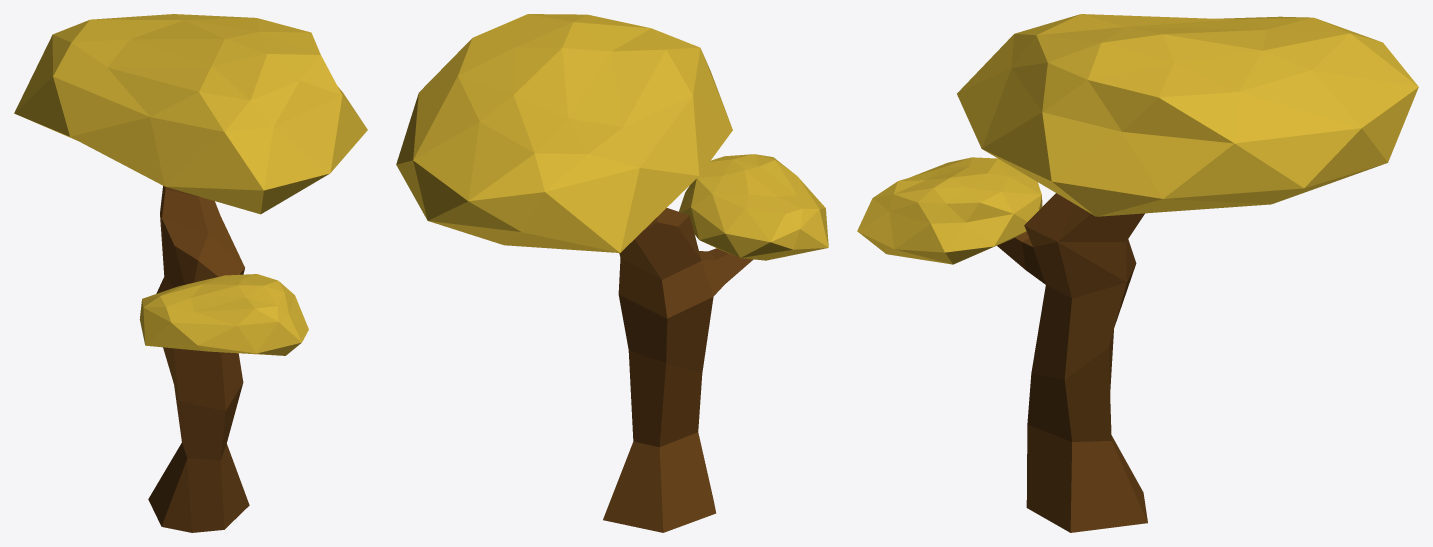
The model's file is co_Tree07_B.fbx.
3 renders of one model, left to right at view 1: azimuth 30°, elevation 25°; view 2: azimuth 150°, elevation 25°; view 3: azimuth 270°, elevation 25°, orthographic. The views are drawn at different scales.
Visible parts, largest first — view 1: Tree07_B_LOD0; view 2: Tree07_B_LOD0; view 3: Tree07_B_LOD0.
Part boxes in pixels (box(x1,y1,x2,y2)): Tree07_B_LOD0: box(14, 14, 367, 532); Tree07_B_LOD0: box(396, 14, 828, 532); Tree07_B_LOD0: box(857, 14, 1418, 532).
Size of what is drawn, in the model's own units: 8.43 by 12.43 by 12.46.
